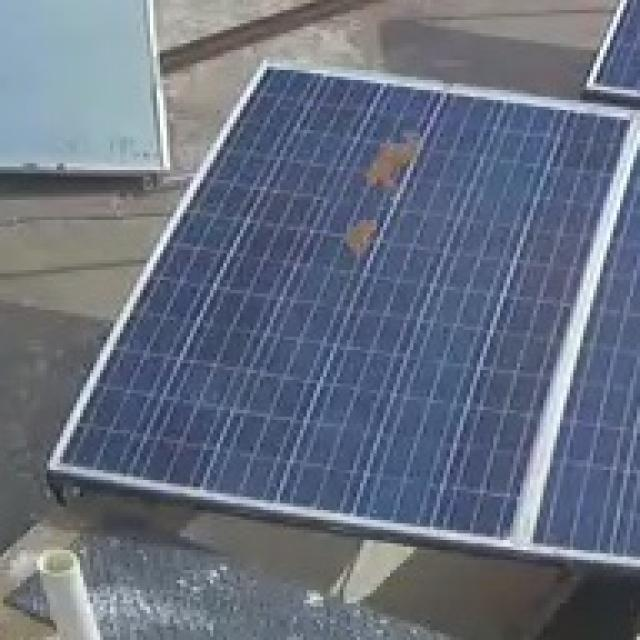Dusty: (356, 124, 432, 200), (334, 214, 389, 262)
